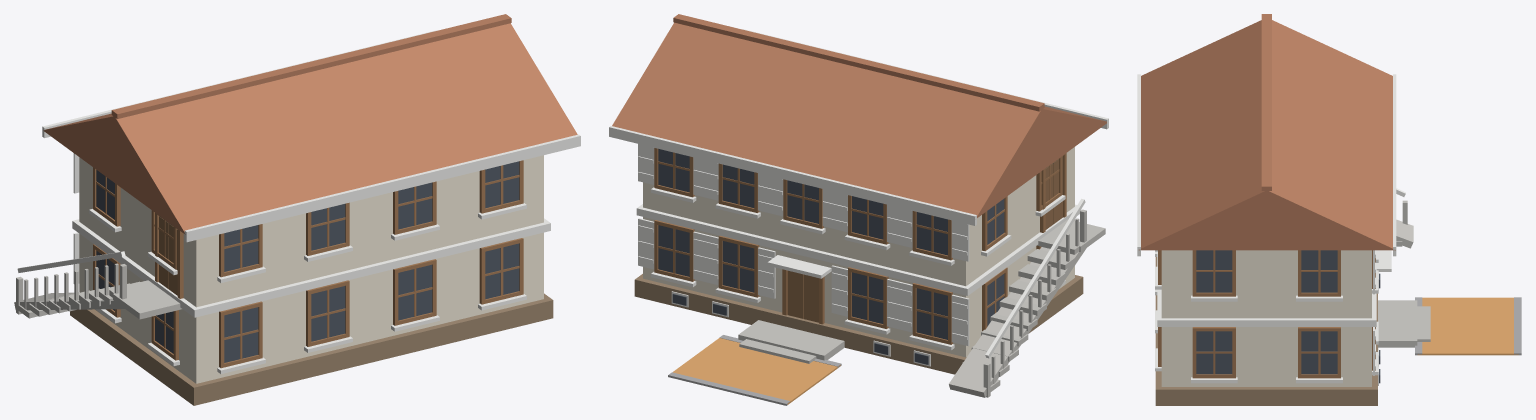
The model's file is twostory_house.fbx.
The picture shows the model from 3 angles, left to right: view 1: azimuth 30°, elevation 25°; view 2: azimuth 150°, elevation 25°; view 3: azimuth 270°, elevation 25°; orthographic projection. The views are drawn at different scales.
Visible parts, largest first — view 1: RH_roof, RH_floor2, RH_floor1, RH_plinth, RH_fascia, RH_band_mid, RH_ridge, RH_p.149, RH_p.181, RH_p.197, RH_p.165, RH_landing (+10 smaller); view 2: RH_roof, RH_floor2, RH_plinth, RH_pad, RH_floor1, RH_fascia.001, RH_band_mid, RH_ridge, RH_stringer, RH_porch, RH_p.080, RH_p.117 (+33 smaller); view 3: RH_roof, RH_floor2, RH_floor1, RH_pad, RH_plinth, RH_band_mid, RH_ridge, RH_porch, RH_p.213, RH_p.229, RH_p.245, RH_p.261 (+5 smaller).
Part boxes in pixels (x1,y1,x2,y2): RH_roof: (43, 23, 577, 234); RH_floor2: (79, 155, 543, 307); RH_floor1: (79, 232, 543, 383); RH_plinth: (70, 293, 553, 405); RH_fascia: (184, 134, 580, 242); RH_band_mid: (72, 218, 550, 317); RH_ridge: (111, 14, 511, 118); RH_p.149: (224, 307, 258, 362); RH_p.181: (398, 264, 432, 320); RH_p.197: (485, 243, 519, 299); RH_p.165: (311, 286, 345, 341); RH_landing: (113, 284, 181, 319); RH_roof: (612, 22, 1106, 217); RH_floor2: (643, 147, 1074, 286); RH_plinth: (634, 274, 1083, 374); RH_pad: (673, 338, 840, 404); RH_floor1: (643, 217, 1074, 357); RH_fascia.001: (609, 126, 976, 225); RH_band_mid: (636, 204, 1081, 295); RH_ridge: (673, 14, 1044, 111); RH_stringer: (949, 247, 1086, 397); RH_porch: (738, 320, 844, 360); RH_p.080: (916, 288, 947, 339); RH_p.117: (722, 241, 754, 292); RH_roof: (1139, 20, 1395, 250); RH_floor2: (1161, 250, 1371, 318); RH_floor1: (1161, 327, 1371, 386); RH_pad: (1417, 297, 1518, 355); RH_plinth: (1155, 257, 1377, 405); RH_band_mid: (1157, 251, 1376, 326); RH_ridge: (1261, 14, 1271, 190); RH_porch: (1378, 300, 1417, 347); RH_p.213: (1196, 331, 1232, 374); RH_p.229: (1301, 331, 1337, 374); RH_p.245: (1196, 250, 1232, 292); RH_p.261: (1301, 250, 1337, 292).
Size of what is drawn, in the model's own units: 1435 by 843 by 1279.
